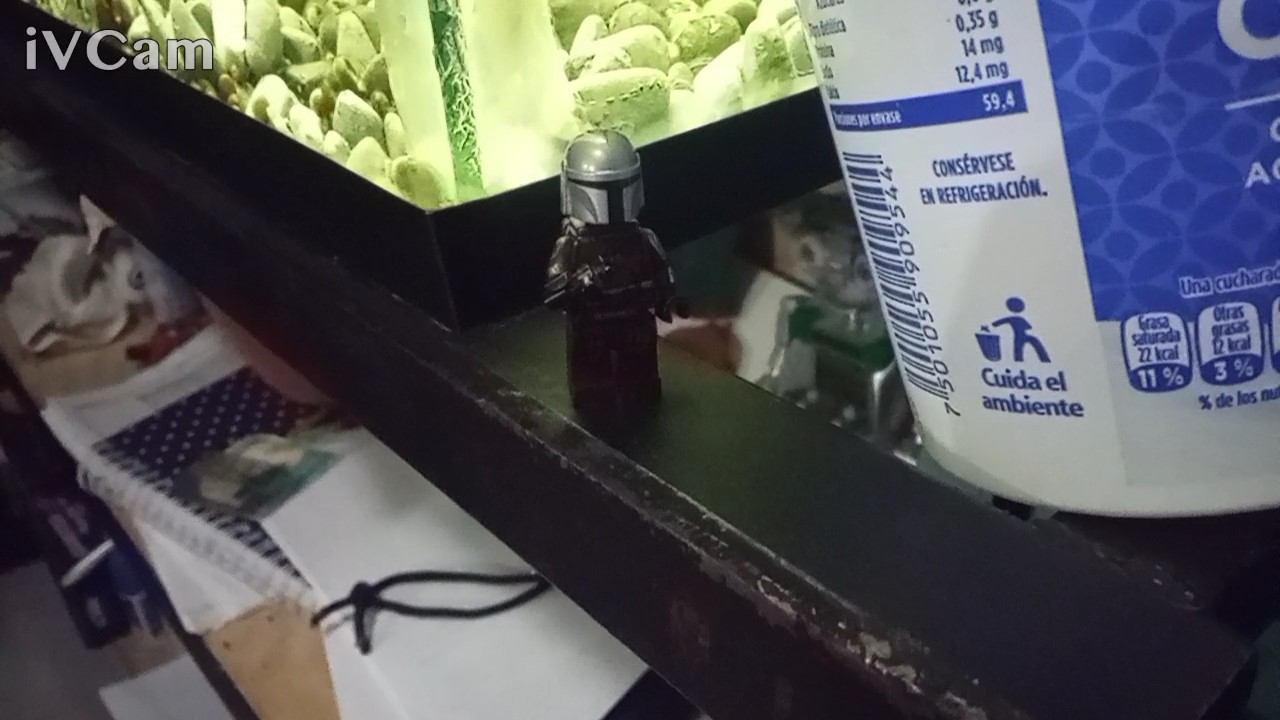mandalorian: (503, 108, 728, 422)
